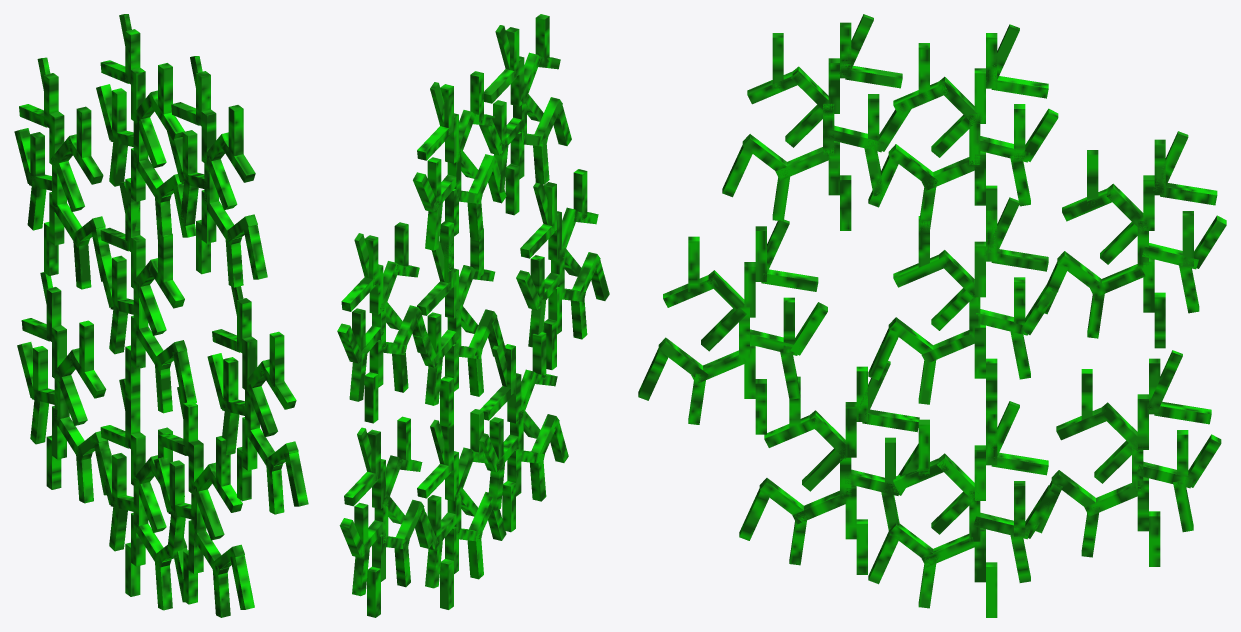
The model's file is modellllll.fbx.
3 views of the same model, side by side, from view 1: azimuth 30°, elevation 25°; view 2: azimuth 150°, elevation 25°; view 3: azimuth 270°, elevation 25° (orthographic). The views are drawn at different scales.
Visible parts, largest first — view 1: cube_74, cube_131, cube_150, cube_17, cube_127, cube_129, cube_148, cube_72, cube_167, cube_51, cube_53, cube_146 (+98 smaller); view 2: cube_48, cube_143, cube_10, cube_105, cube_162, cube_67, cube_127, cube_146, cube_51, cube_70, cube_32, cube_40 (+101 smaller); view 3: cube_56, cube_37, cube_151, cube_18, cube_132, cube_113, cube_170, cube_75, cube_130, cube_35, cube_45, cube_158.
Boxes of the visible parts, box(x1,y1,x2,y2) form: cube_74: box(230, 555, 254, 609); cube_131: box(284, 452, 308, 506); cube_150: box(243, 225, 267, 279); cube_17: box(172, 350, 196, 404); cube_127: box(269, 331, 284, 386); cube_129: box(247, 384, 277, 436); cube_148: box(206, 157, 237, 210); cube_72: box(194, 488, 224, 540); cube_167: box(56, 373, 87, 425); cube_51: box(76, 106, 91, 158); cube_53: box(54, 160, 84, 211); cube_146: box(228, 105, 243, 156); cube_48: box(364, 372, 378, 423); cube_143: box(505, 164, 519, 215); cube_10: box(440, 376, 453, 427); cube_105: box(440, 558, 453, 609); cube_162: box(367, 566, 380, 617); cube_67: box(502, 481, 515, 532); cube_127: box(573, 169, 587, 219); cube_146: box(535, 14, 549, 64); cube_51: box(394, 222, 408, 272); cube_70: box(532, 332, 546, 380); cube_32: box(470, 71, 483, 122); cube_40: box(349, 351, 367, 401); cube_56: box(1160, 183, 1217, 205); cube_37: box(991, 76, 1048, 98); cube_151: box(845, 65, 902, 88); cube_18: box(991, 249, 1048, 271); cube_132: box(761, 269, 818, 291); cube_113: box(991, 452, 1048, 475); cube_170: box(1154, 401, 1211, 424); cube_75: box(862, 409, 919, 432); cube_130: box(658, 337, 708, 382); cube_35: box(888, 144, 938, 186); cube_45: box(1090, 264, 1145, 297); cube_158: box(1147, 350, 1182, 412).
Bounding box in the file's own units: 18.75 × 739 × 655.
1 material, 1 textured.
